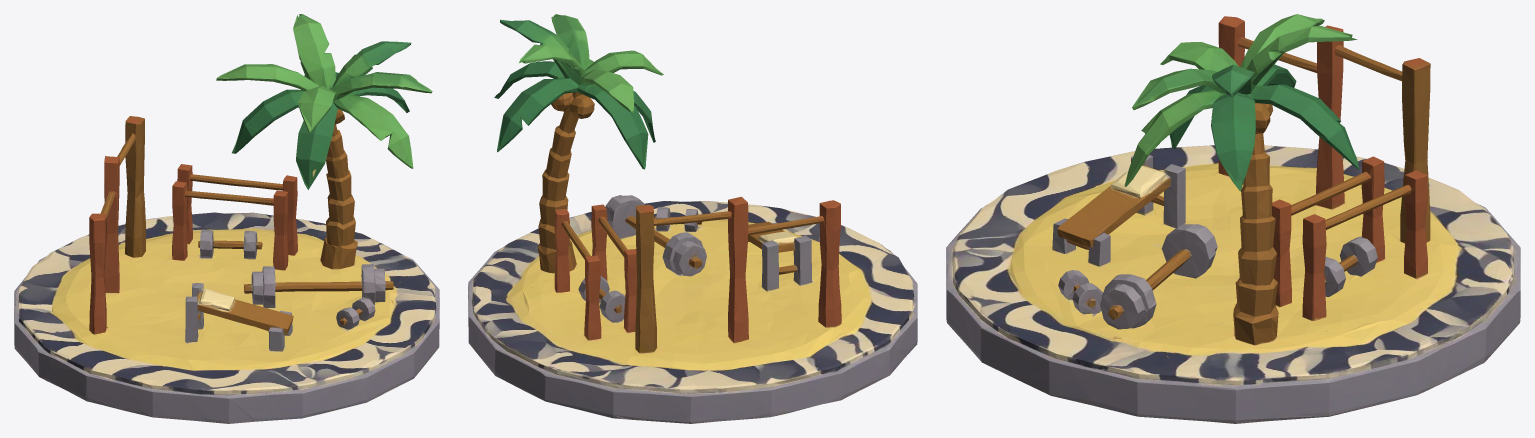
The model's file is rio-academia.glb.
The picture shows the model from 3 angles, left to right: view 1: azimuth 30°, elevation 25°; view 2: azimuth 150°, elevation 25°; view 3: azimuth 270°, elevation 25°; orthographic projection. The views are drawn at different scales.
Visible parts, largest first — view 1: tripo_node_eb76c6a0-461e-40f1-83f1-0235a42abc49; view 2: tripo_node_eb76c6a0-461e-40f1-83f1-0235a42abc49; view 3: tripo_node_eb76c6a0-461e-40f1-83f1-0235a42abc49.
Boxes of the visible parts, <box> form: tripo_node_eb76c6a0-461e-40f1-83f1-0235a42abc49: <box>14,14,439,423</box>; tripo_node_eb76c6a0-461e-40f1-83f1-0235a42abc49: <box>468,14,917,423</box>; tripo_node_eb76c6a0-461e-40f1-83f1-0235a42abc49: <box>946,14,1520,423</box>.
Size of the model in its own units: 0.9998 by 0.6661 by 0.9951.
Materials: 1 (1 with a texture image).
